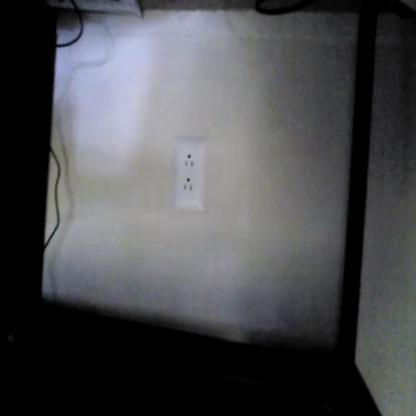OUTLET: (173, 138, 206, 210)
